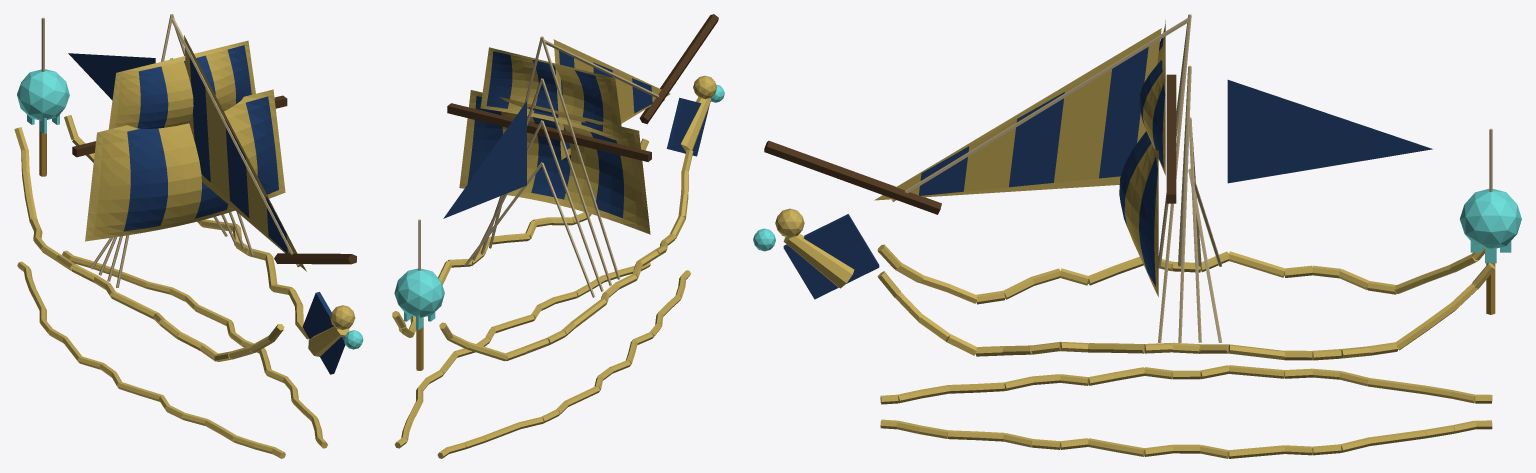
The model's file is upg_skiff_t3.glb.
The picture shows the model from 3 angles, left to right: view 1: azimuth 30°, elevation 25°; view 2: azimuth 150°, elevation 25°; view 3: azimuth 270°, elevation 25°; orthographic projection. The views are drawn at different scales.
Visible parts, largest first — view 1: geometry_0; view 2: geometry_0; view 3: geometry_0.
Part boxes in pixels (x1,y1,x2,y2): geometry_0: [14, 14, 363, 458]; geometry_0: [392, 14, 724, 458]; geometry_0: [753, 14, 1521, 458].
Bounding box in the file's own units: 3.02 × 4.69 × 8.16.
